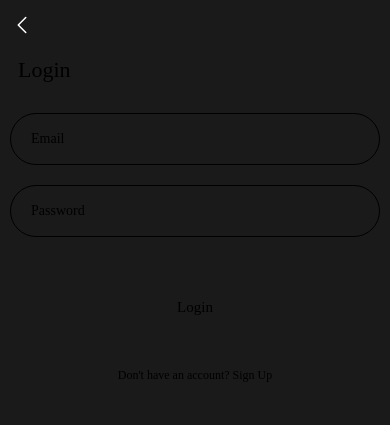
Scenario: LoginScreen › Validation › Error Clearing › should clear email error when email input is focused
Click the element with test id "Login".
click(195, 307)  # box [177,299,213,315]
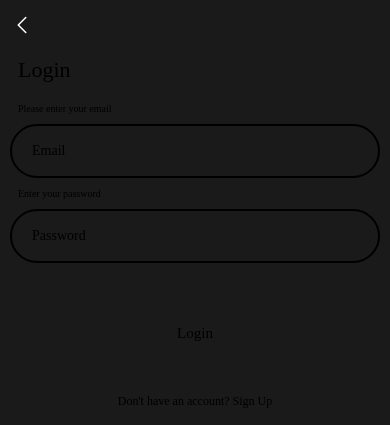
Focus the field with placeholder "Email" at [195, 151], box [12,126,378,176]
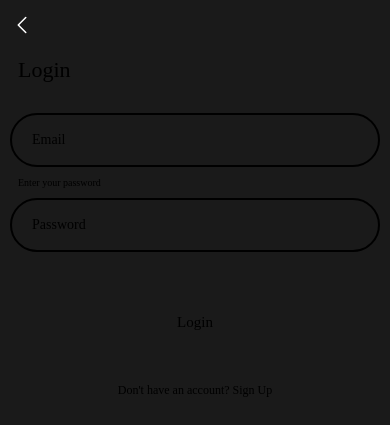
Now the text "Please enter your email" is gone
